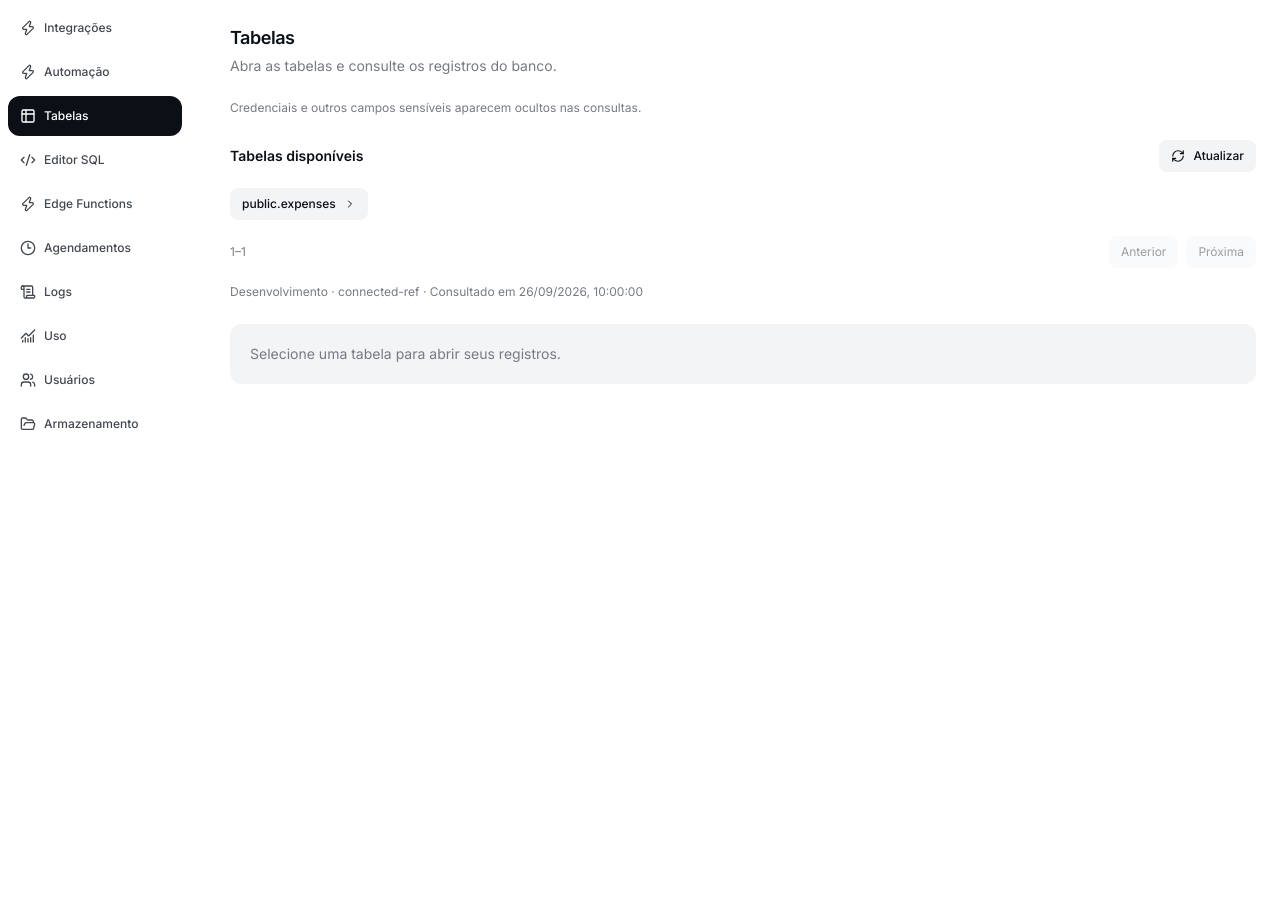
console de dados e serviços › abre registros e pagina mantendo o projeto e a tabela escolhidos
Step 1. Click the button "public.expenses" → (299, 204), box [230,188,368,220]
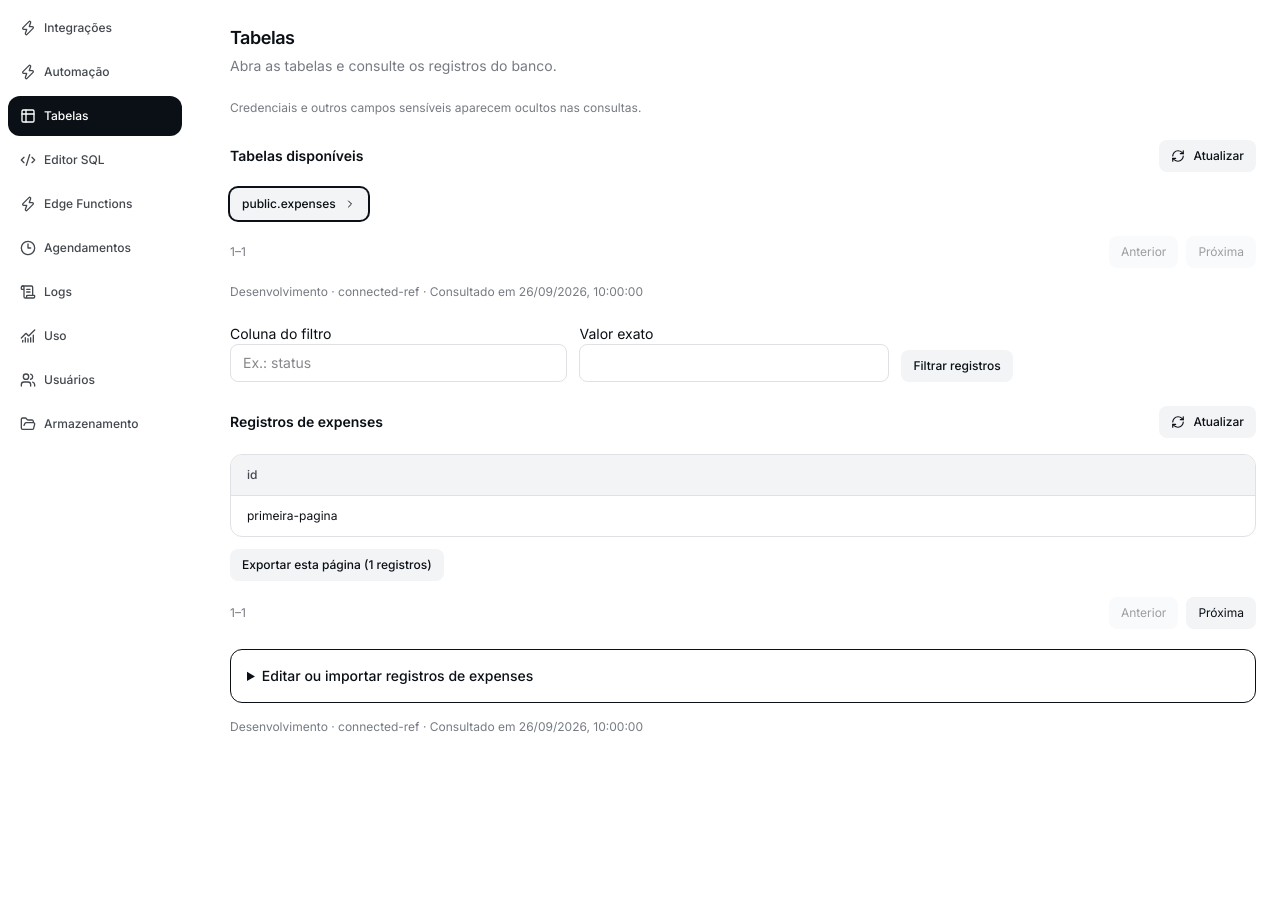
Now the text "primeira-pagina" is shown, box [247,508,337,523]
Step 2. Click the 2nd button "Próxima" → (1221, 613), box [1186,597,1256,629]
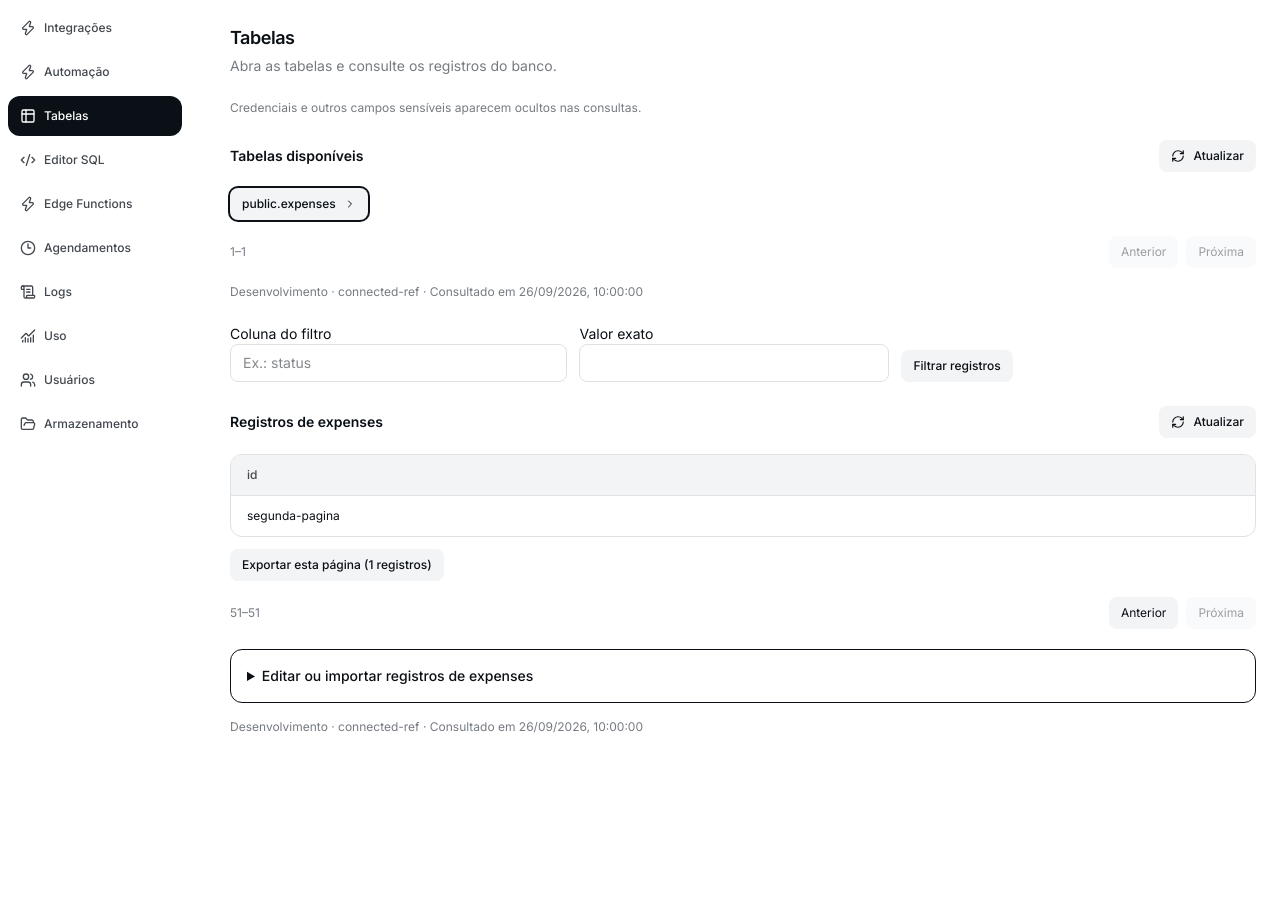
Now the text "segunda-pagina" is shown, box [247,508,340,523]
Now the button "Próxima" in the row of "51–51" is disabled, box [1186,597,1256,629]
Step 3. Click the button "Anterior" in the row of "51–51" → (1144, 613), box [1109,597,1178,629]
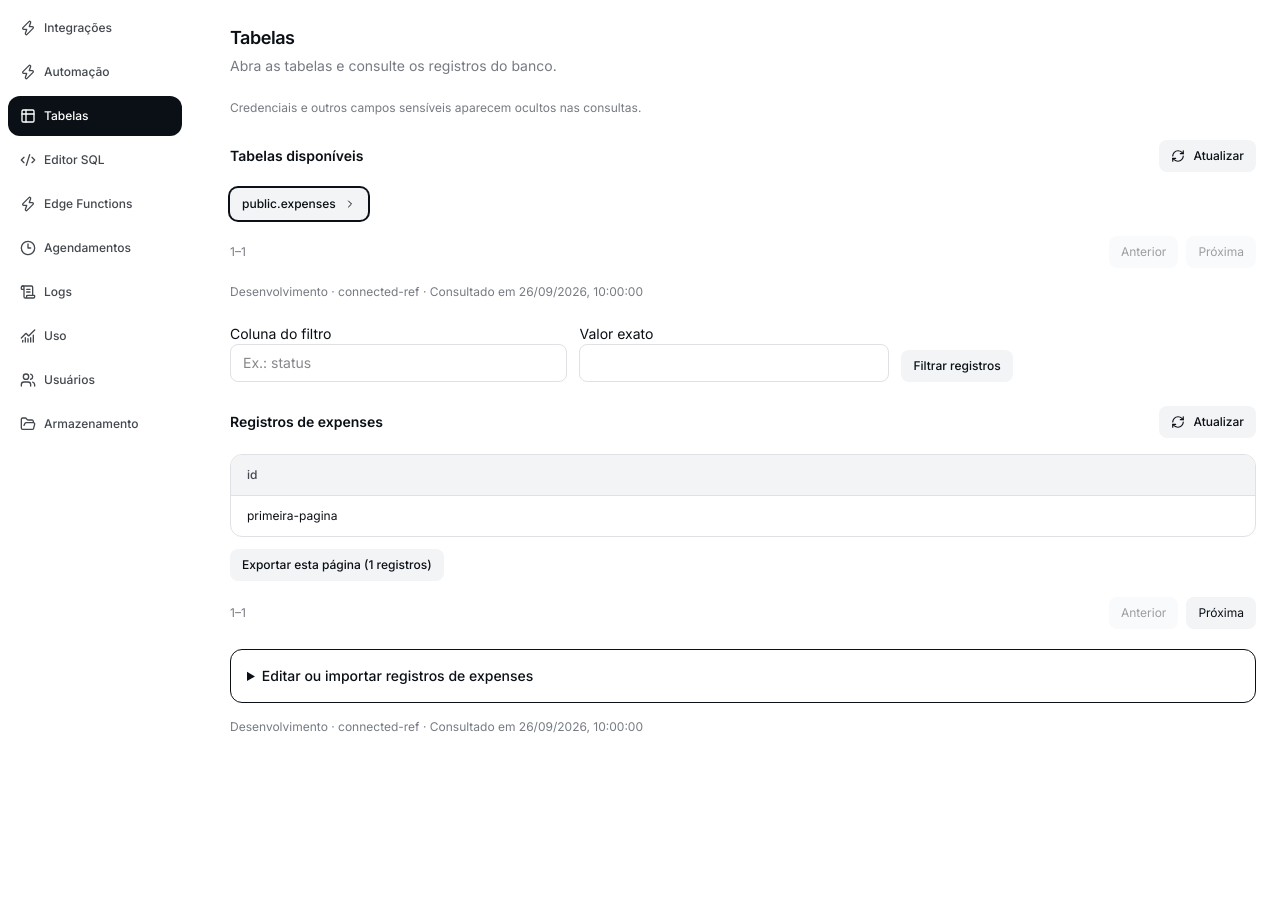
Now the text "primeira-pagina" is shown, box [247,508,337,523]
